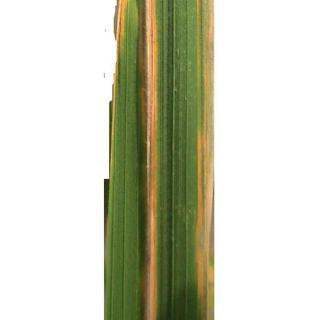Hawar-Daun: (128, 2, 174, 320), (189, 0, 226, 320), (95, 1, 134, 235)
